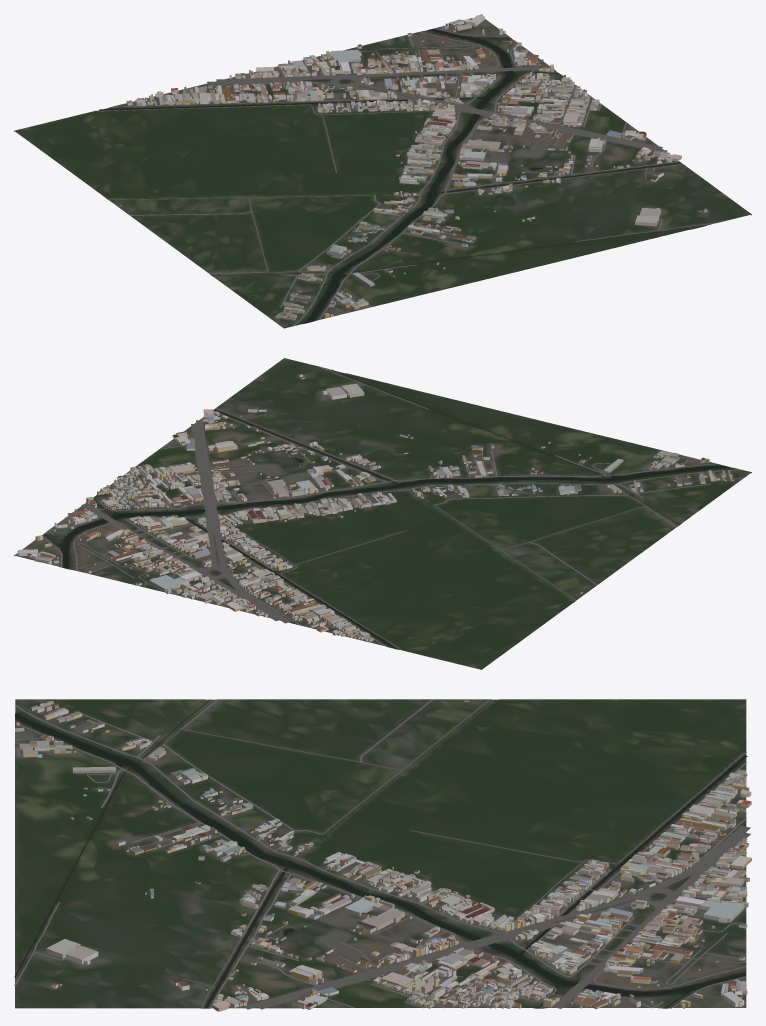
The picture shows the model from 3 angles, top to bottom: view 1: azimuth 30°, elevation 25°; view 2: azimuth 150°, elevation 25°; view 3: azimuth 270°, elevation 25°; orthographic projection. The views are drawn at different scales.
Parts seen in each view (by area): view 1: ground, buildings, roads, water; view 2: ground, buildings, roads, water; view 3: ground, buildings, roads, water.
Part boxes in pixels (x1,y1,x2,y2): ground: (14, 19, 751, 328); buildings: (120, 14, 707, 320); roads: (94, 25, 717, 326); water: (99, 29, 704, 323); ground: (14, 358, 751, 669); buildings: (17, 373, 734, 642); roads: (43, 366, 742, 650); water: (44, 369, 730, 649); ground: (15, 699, 746, 1008); buildings: (15, 699, 751, 1011); roads: (14, 699, 750, 1009); water: (14, 699, 747, 1008).
Size of the model in its own units: 1417 by 21.15 by 1413.
